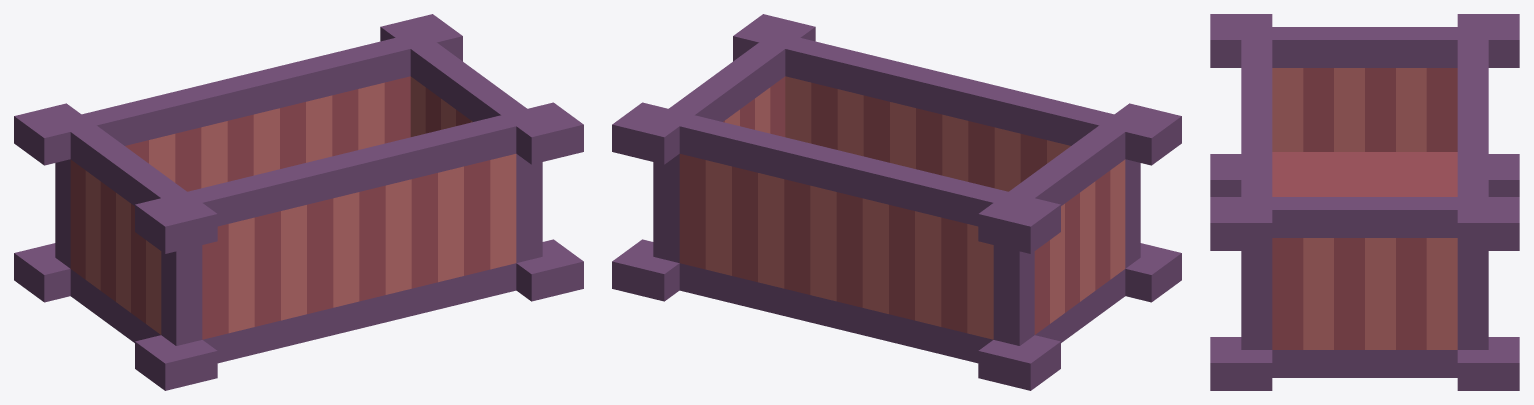
The model's file is chest.obj.
3 renders of one model, left to right at view 1: azimuth 30°, elevation 25°; view 2: azimuth 150°, elevation 25°; view 3: azimuth 270°, elevation 25°, orthographic. The views are drawn at different scales.
Visible parts, largest first — view 1: chest; view 2: chest; view 3: chest.
Part boxes in pixels (x1,y1,x2,y2): chest: [14, 14, 583, 390]; chest: [612, 14, 1181, 390]; chest: [1210, 14, 1519, 390].
Size of the model in its own units: 18.69 by 7.01 by 11.68.
1 material, 1 textured.
